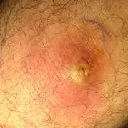Cellulitis: (67, 46, 106, 90)
